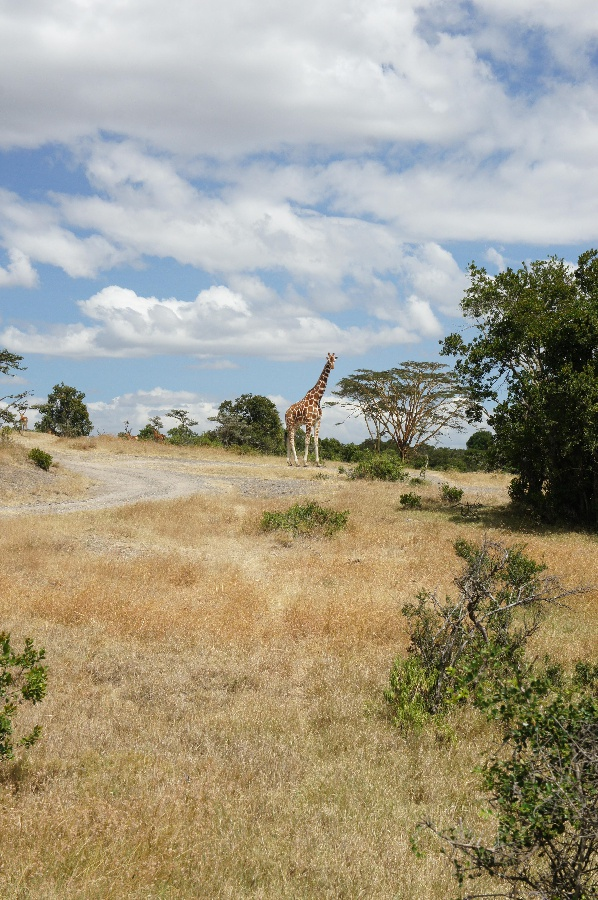giraffe: (280, 345, 340, 468)
